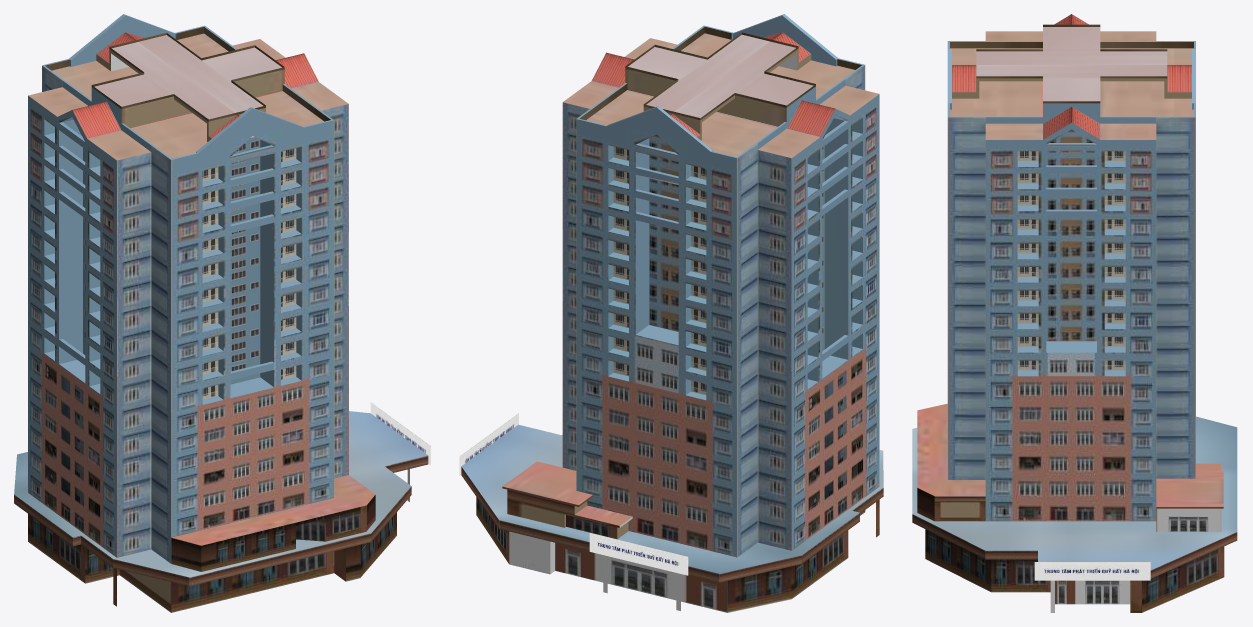
The picture shows the model from 3 angles, left to right: view 1: azimuth 30°, elevation 25°; view 2: azimuth 150°, elevation 25°; view 3: azimuth 270°, elevation 25°; orthographic projection. The views are drawn at different scales.
Parts seen in each view (by area): view 1: HN480___Toa_nha_N2D; view 2: HN480___Toa_nha_N2D; view 3: HN480___Toa_nha_N2D.
Boxes of the visible parts, x1,y1,x2,y2 form: HN480___Toa_nha_N2D: [14, 14, 430, 612]; HN480___Toa_nha_N2D: [459, 14, 883, 612]; HN480___Toa_nha_N2D: [912, 14, 1237, 612].
Bounding box in the file's own units: 50.23 × 66.13 × 42.02.
Materials: 1 (1 with a texture image).
